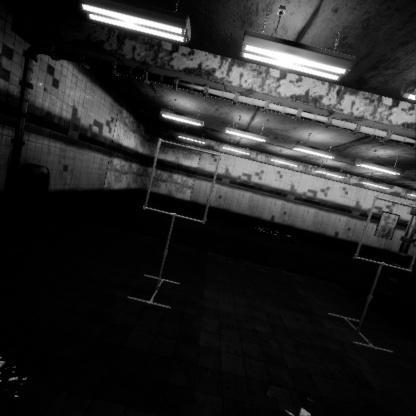gate: (144, 190, 228, 278), (353, 142, 416, 221)
